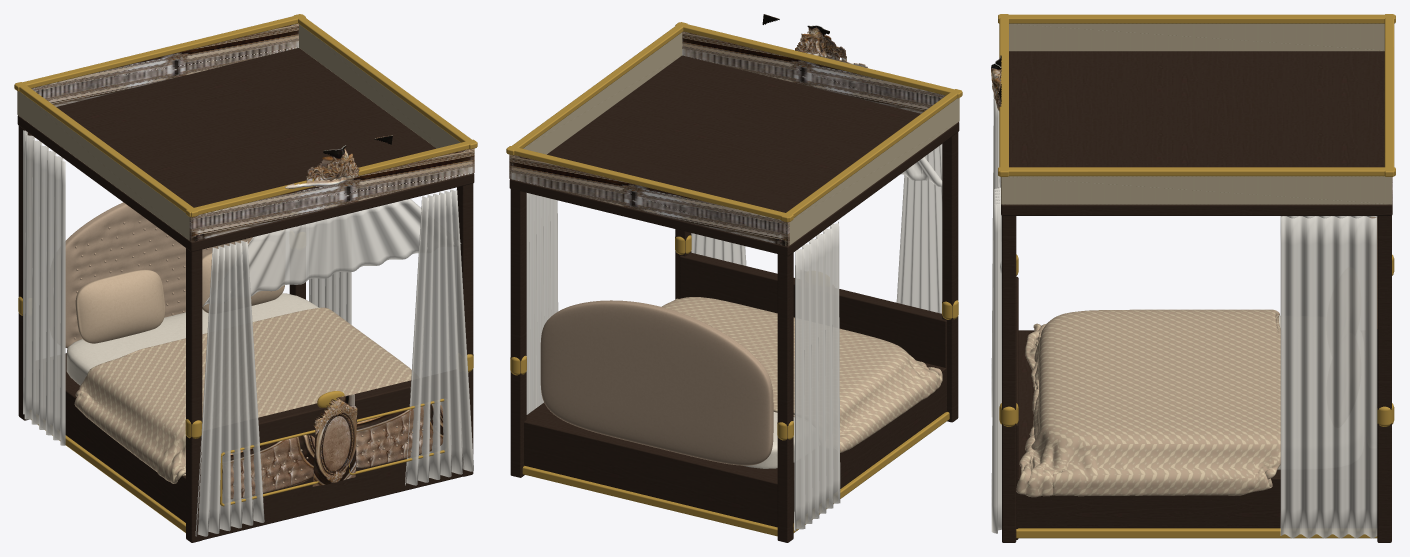
The model's file is empire-royal-bed-set--bed.glb.
3 views of the same model, side by side, from view 1: azimuth 30°, elevation 25°; view 2: azimuth 150°, elevation 25°; view 3: azimuth 270°, elevation 25° (orthographic). The views are drawn at different scales.
Visible parts, largest first — view 1: canopy, duvet, curtF-1, curtF1, curtS-1, swag, head, foot, bal-1, bal1, pillow0, post-1-1 (+18 smaller); view 2: canopy, head, base, curtS-1, duvet, foot, bal1, bal-1, curtF-1, curtS1, post-11, post11 (+12 smaller); view 3: canopy, duvet, curtS1, bals1, bals-1, base, post11, post1-1, caps1, caps-1, curtF1, goldbase (+4 smaller).
Boxes of the visible parts, bbox=[...] form: canopy: bbox=[17, 48, 474, 251]; duvet: bbox=[74, 307, 411, 483]; curtF-1: bbox=[195, 240, 264, 536]; curtF1: bbox=[405, 189, 473, 485]; curtS-1: bbox=[23, 130, 65, 445]; swag: bbox=[202, 198, 461, 306]; head: bbox=[65, 202, 282, 348]; foot: bbox=[202, 380, 462, 540]; bal-1: bbox=[189, 148, 474, 241]; bal1: bbox=[18, 23, 298, 115]; pillow0: bbox=[75, 269, 165, 343]; post-1-1: bbox=[186, 248, 202, 542]; canopy: bbox=[509, 55, 959, 256]; head: bbox=[540, 300, 773, 465]; base: bbox=[524, 363, 946, 527]; curtS-1: bbox=[794, 221, 840, 531]; duvet: bbox=[661, 297, 942, 452]; foot: bbox=[679, 252, 946, 411]; bal1: bbox=[509, 154, 789, 246]; bal-1: bbox=[682, 31, 959, 121]; curtF-1: bbox=[896, 144, 942, 313]; curtS1: bbox=[526, 193, 558, 414]; post-11: bbox=[777, 253, 793, 542]; post11: bbox=[510, 189, 526, 477]; canopy: bbox=[1001, 51, 1392, 215]; duvet: bbox=[1016, 309, 1280, 497]; curtS1: bbox=[1280, 216, 1377, 538]; bals1: bbox=[1001, 176, 1391, 204]; bals-1: bbox=[1009, 23, 1384, 51]; base: bbox=[1017, 330, 1280, 528]; post11: bbox=[1377, 215, 1391, 542]; post1-1: bbox=[1002, 216, 1016, 542]; caps1: bbox=[998, 167, 1395, 176]; caps-1: bbox=[998, 14, 1395, 23]; curtF1: bbox=[991, 187, 1001, 533]; goldbase: bbox=[1016, 528, 1377, 538].
Size of the model in its own units: 2.38 by 2.8 by 2.53.
Materials: 12 (10 with a texture image).
